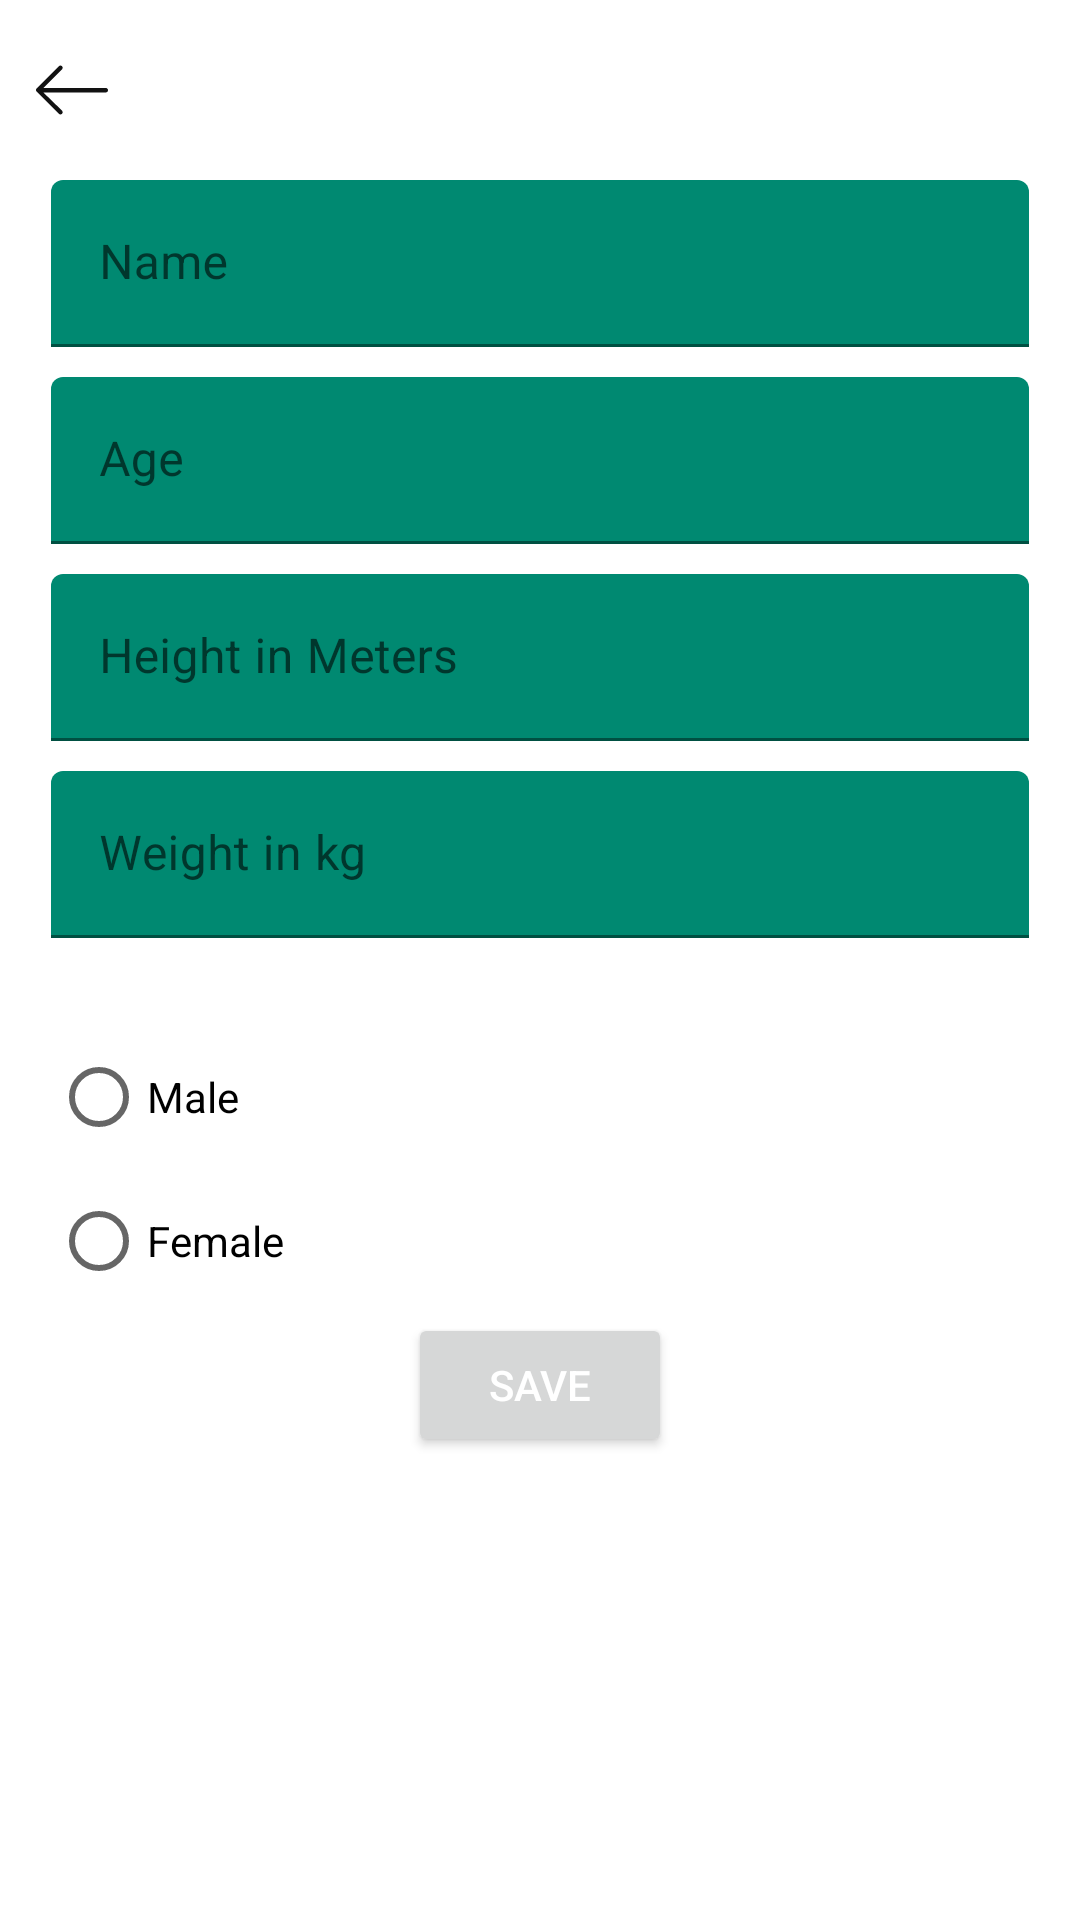

Point at icon controls on the screen. Image size 1080*1920, points as point (x, y).
back: point (72, 90)
